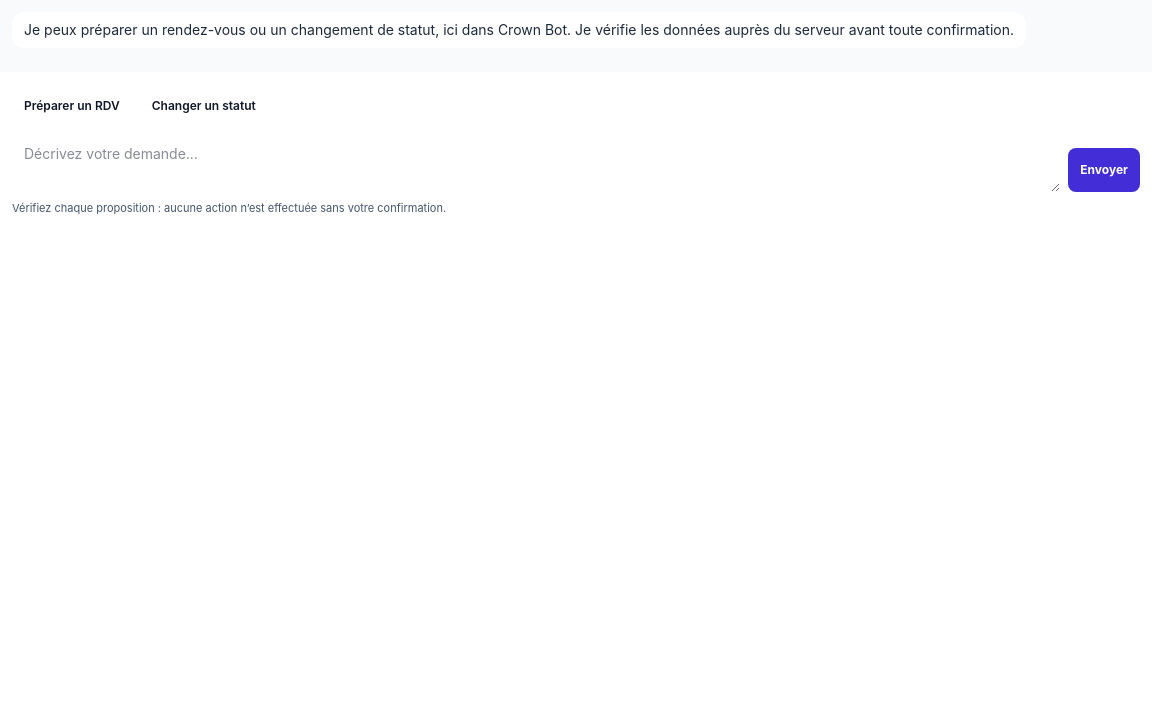
Test: CB-03 G5 — genuine chat-style guided action security › homonyms must be picked from authenticated server candidates
In the text box named "Votre message à Crown Bot": (536, 164) [12,136,1060,192], type "Prépare un RDV demain 10h pour Mme Benali contrôle"
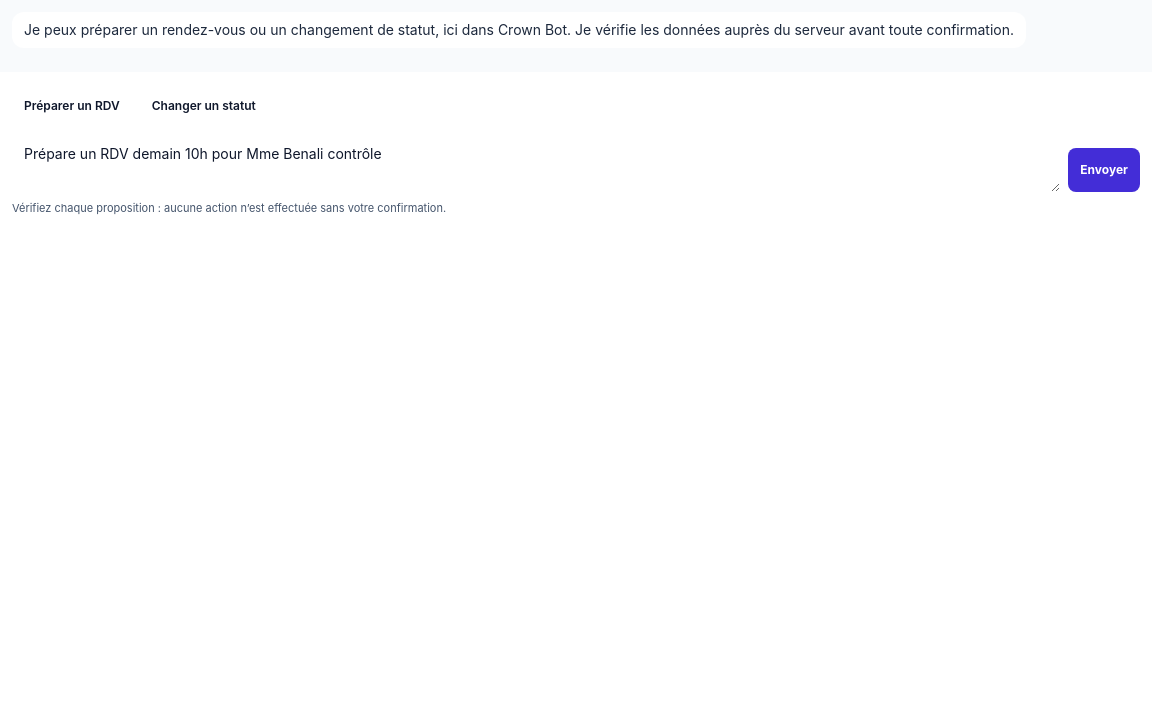
Click the button "Envoyer": (1104, 170) [1068,148,1140,192]
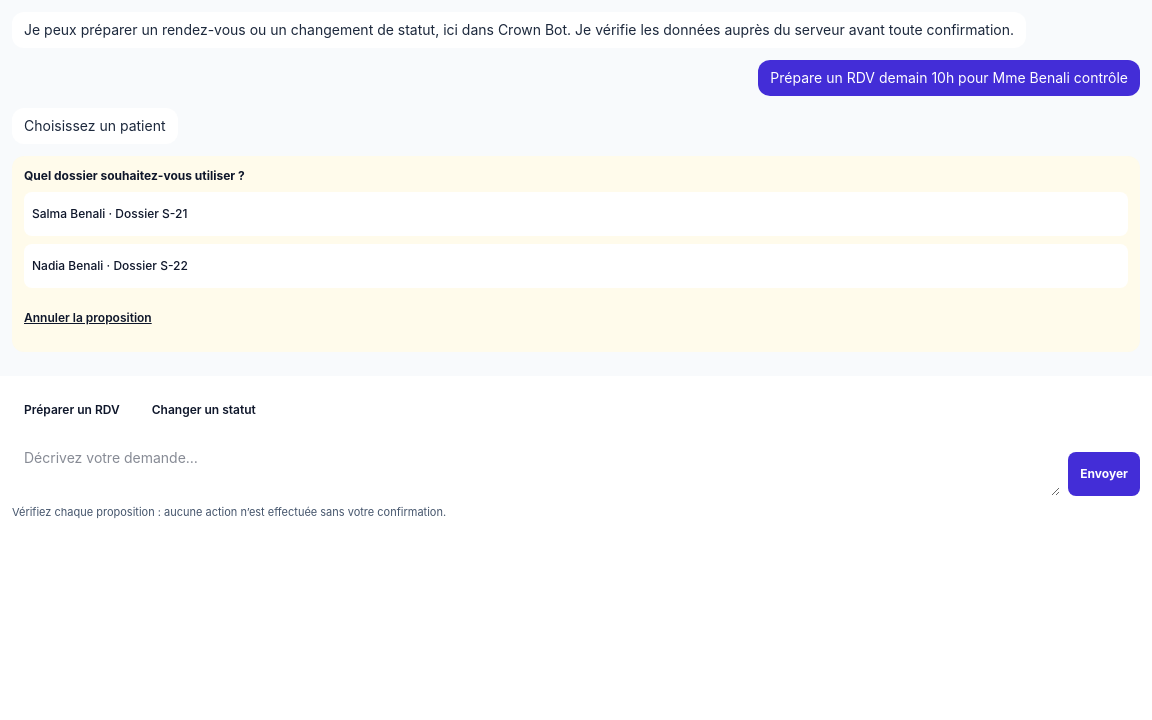
Expected: the button "Confirmer explicitement cette action" is not shown
Click the button "Salma Benali · Dossier S-21": (110, 214) [24,192,1128,236]
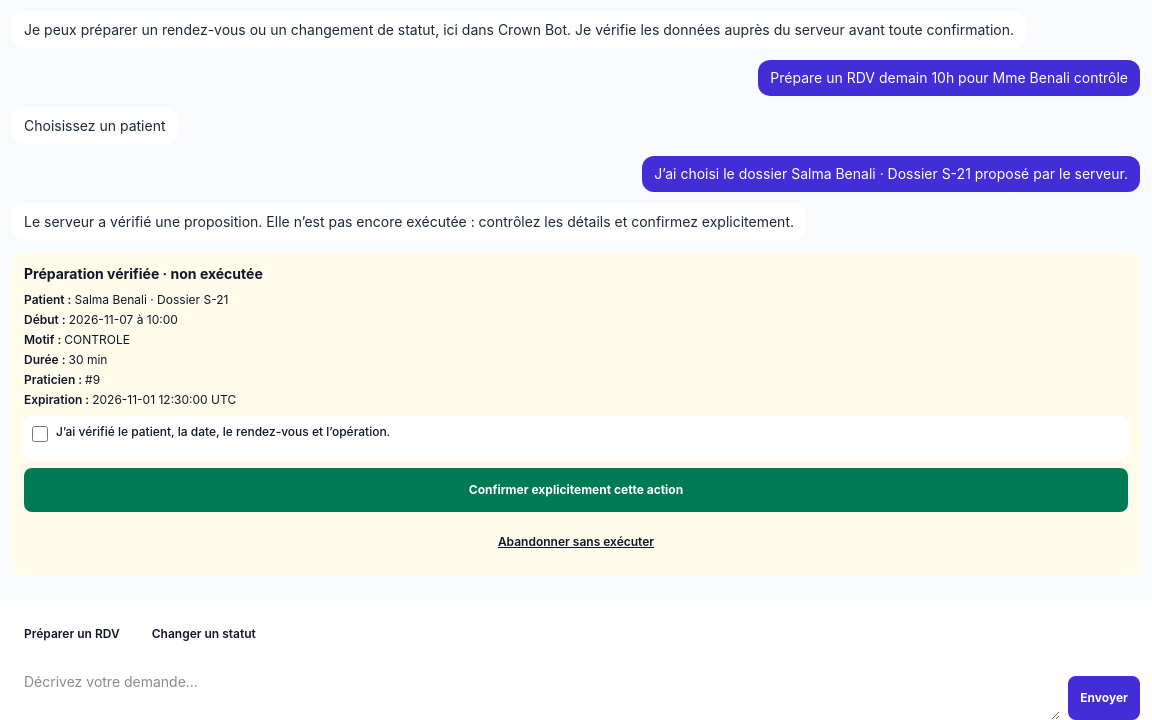
Result: the button "Confirmer explicitement cette action" is shown at [24,468,1128,512]
